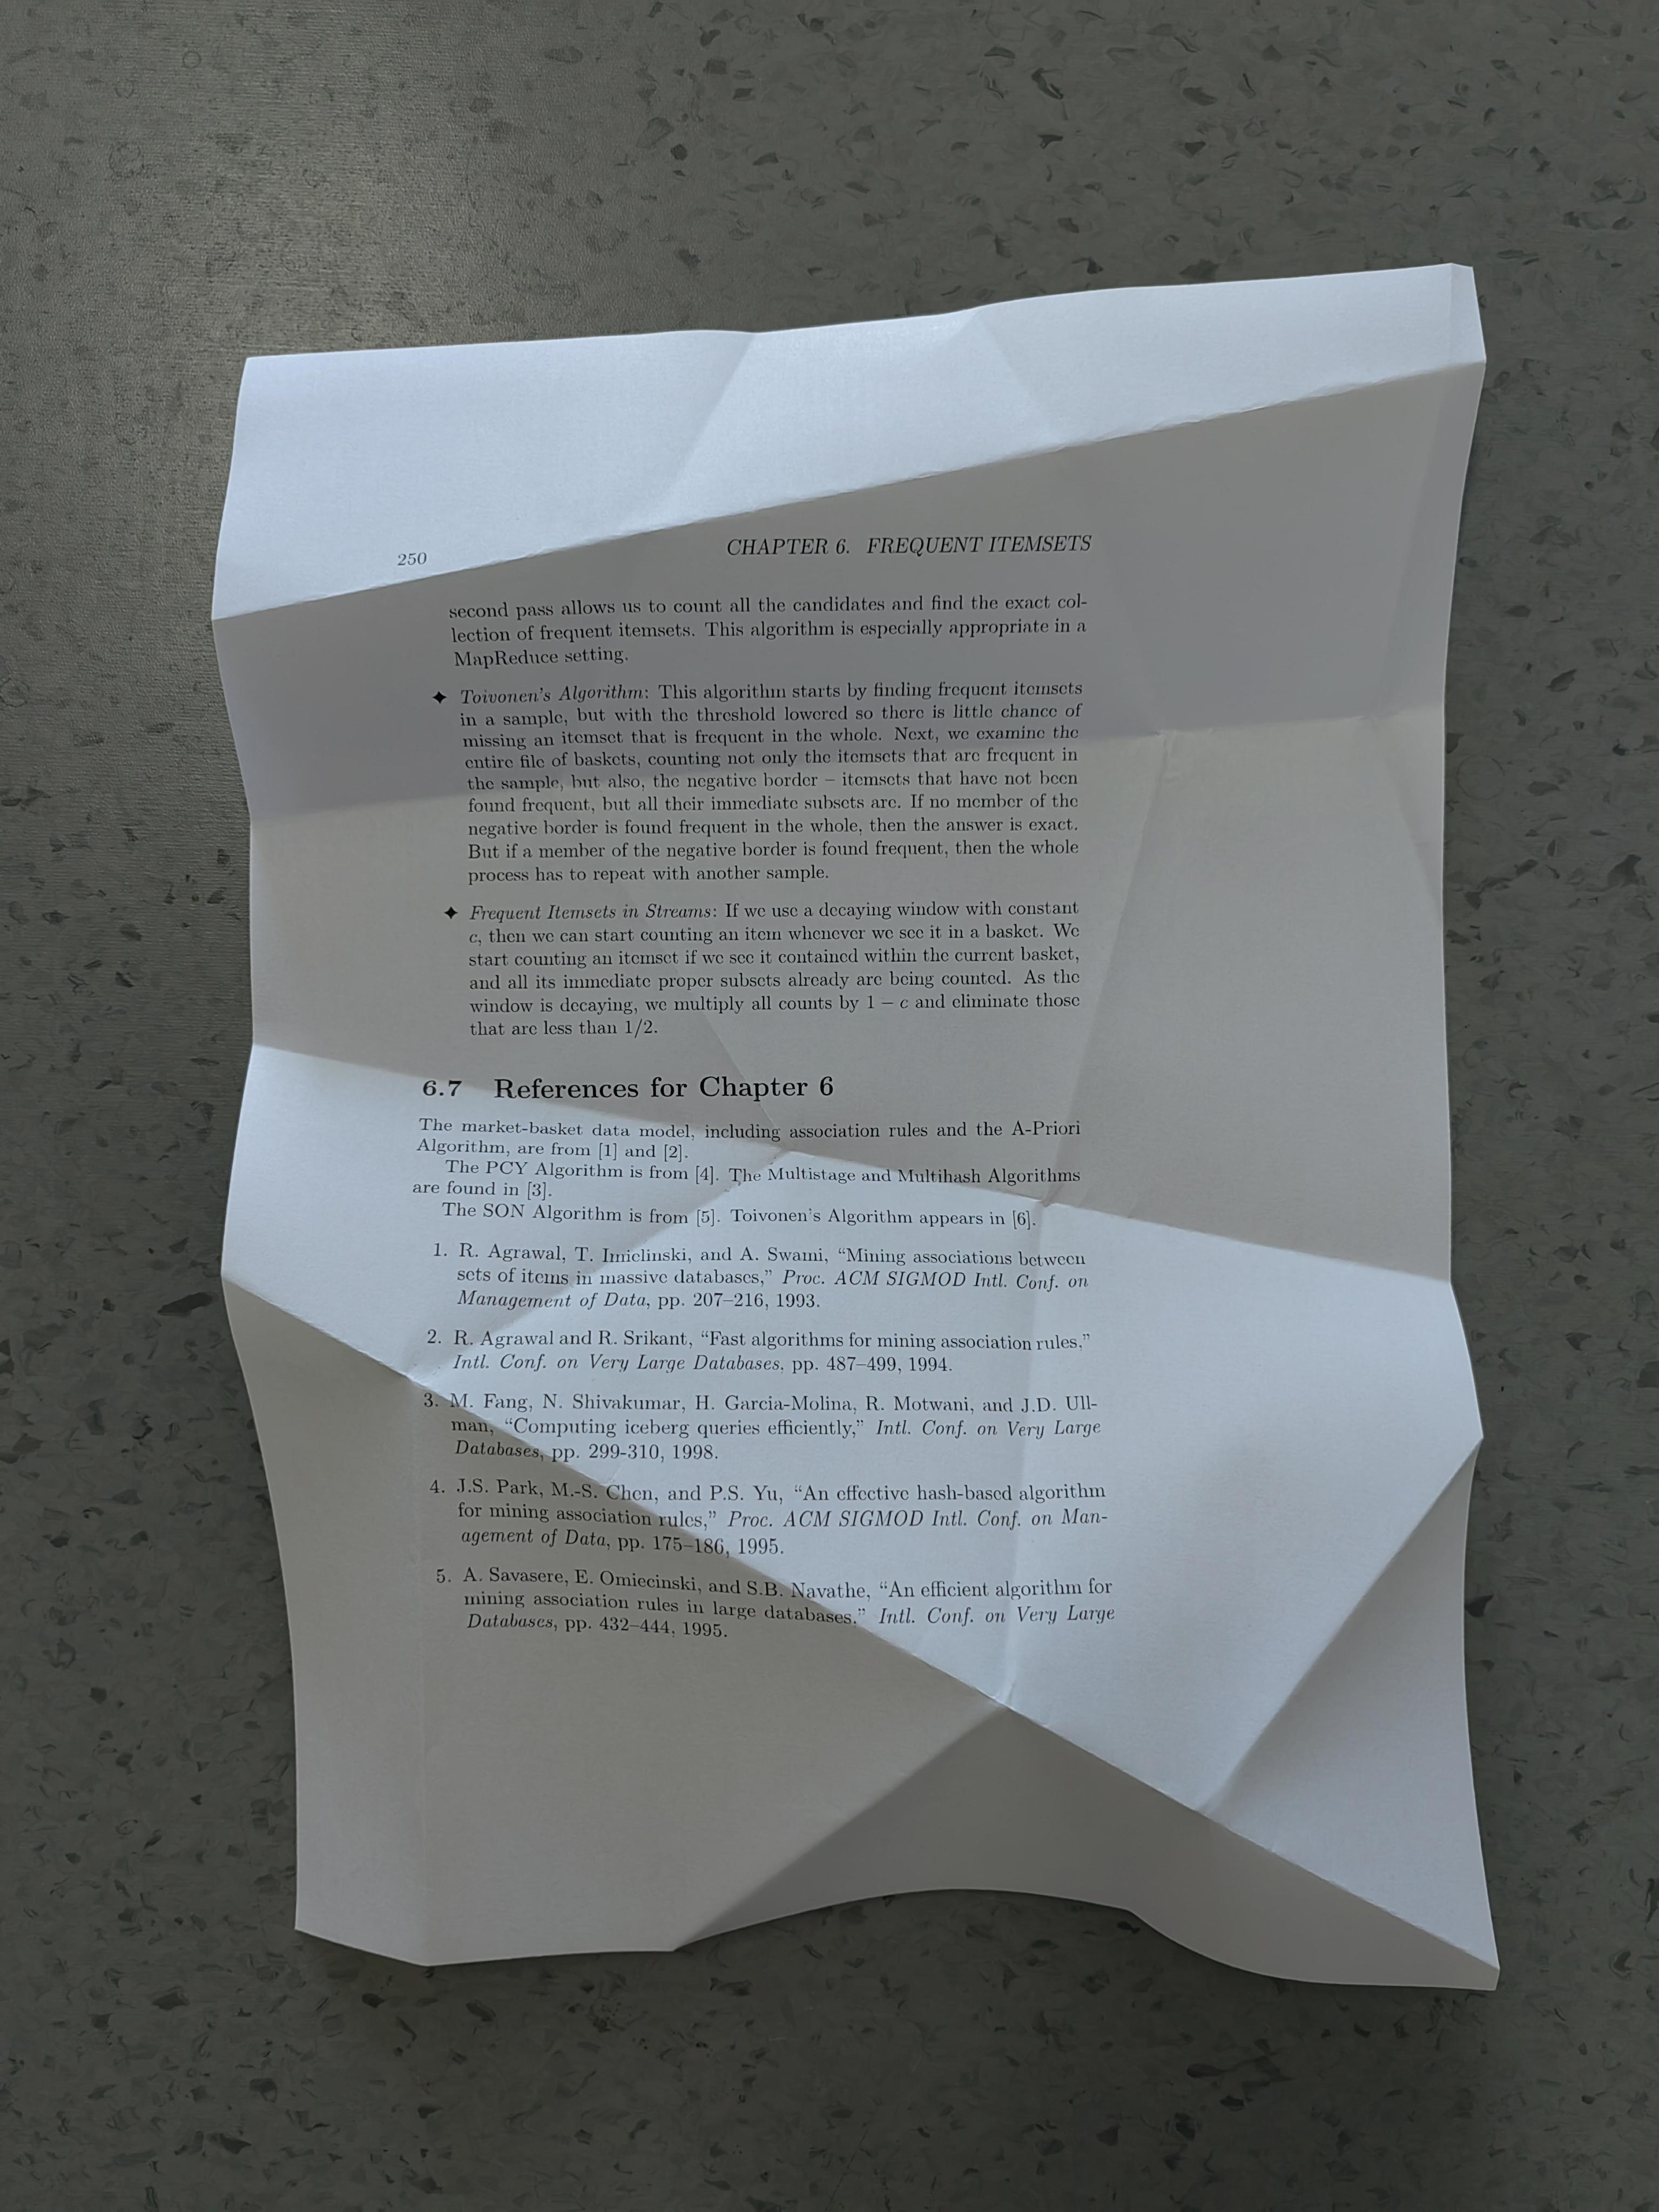paper: (84, 162, 1584, 2067)
